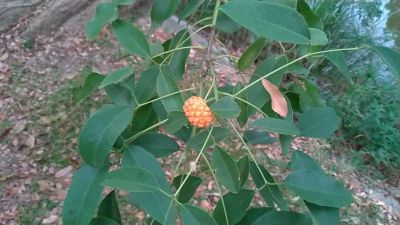eggs: (182, 93, 213, 129)
